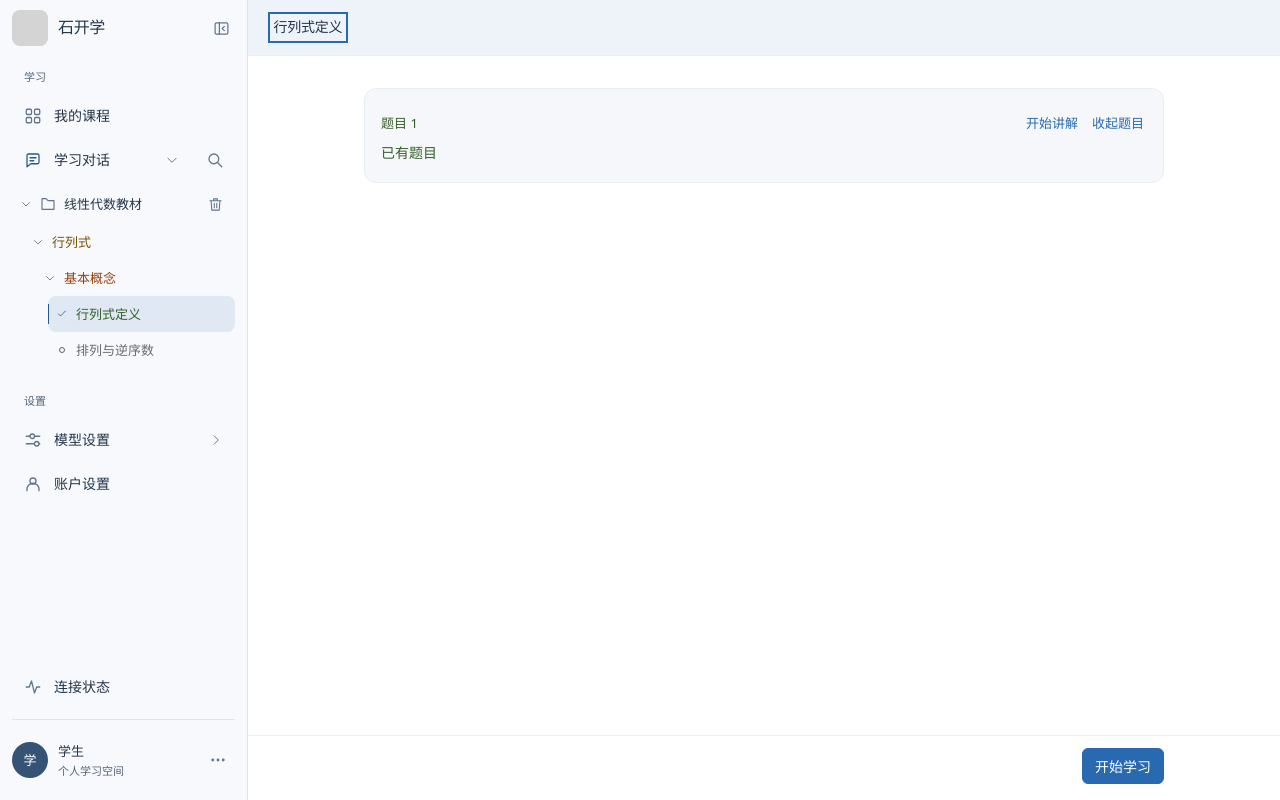
Test: restores the saved conversation from the legacy project URL without rewriting it
This screenshot has width=1280, height=800.
Expected: the text "已有题目" is shown, [381,143,437,162]
Expected: the text "继续阅读" is not shown
Step 1. Click the button "开始讲解" → (1052, 123), box [1023,105,1081,141]
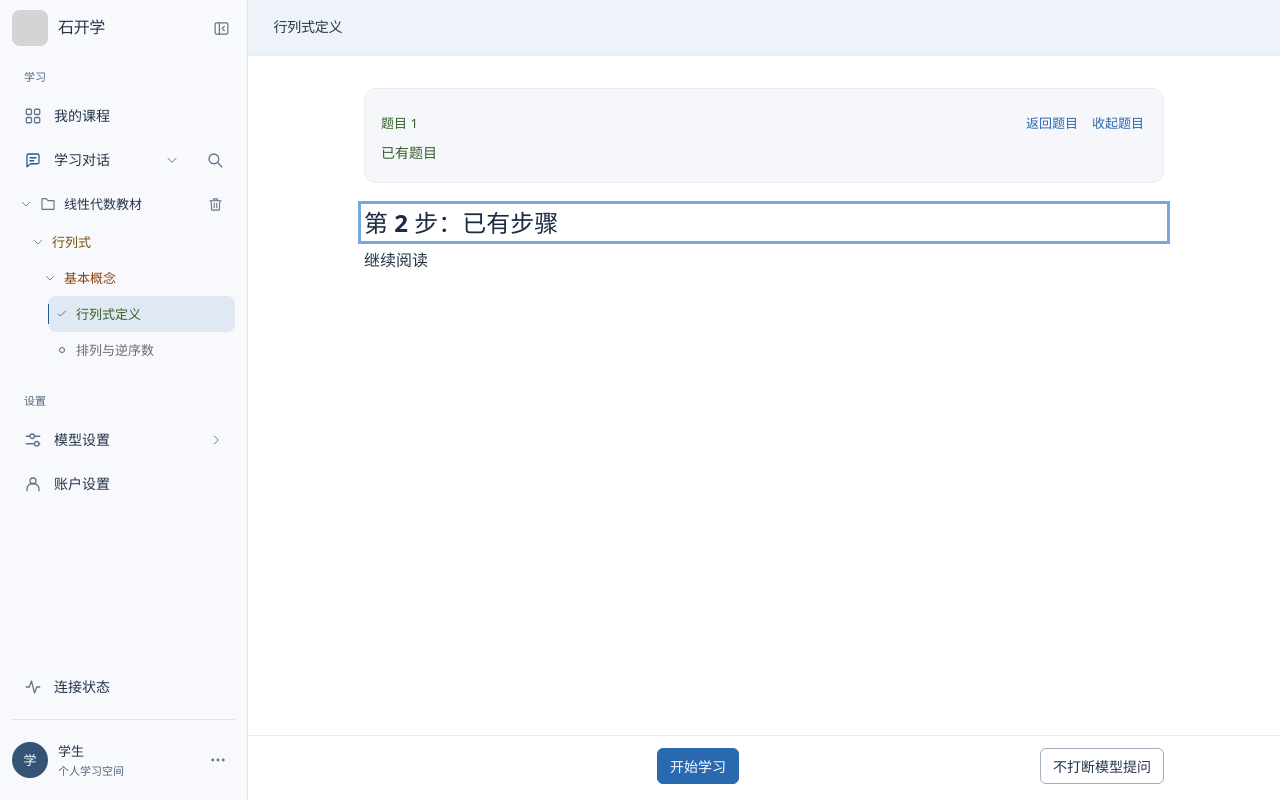
Expected: the text "继续阅读" is shown, [364,249,428,271]
Step 2. Click the button "返回题目" → (1052, 123), box [1023,105,1081,141]
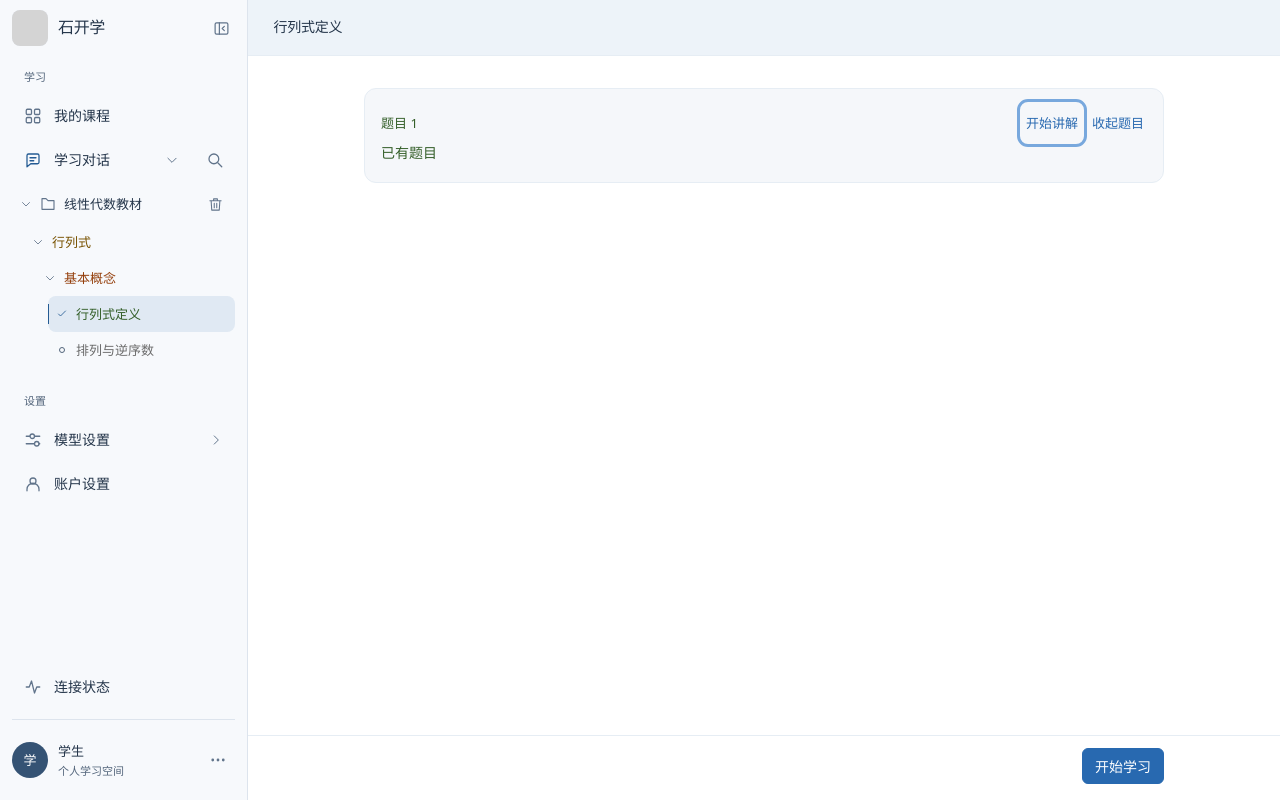
Expected: the text "继续阅读" is gone
